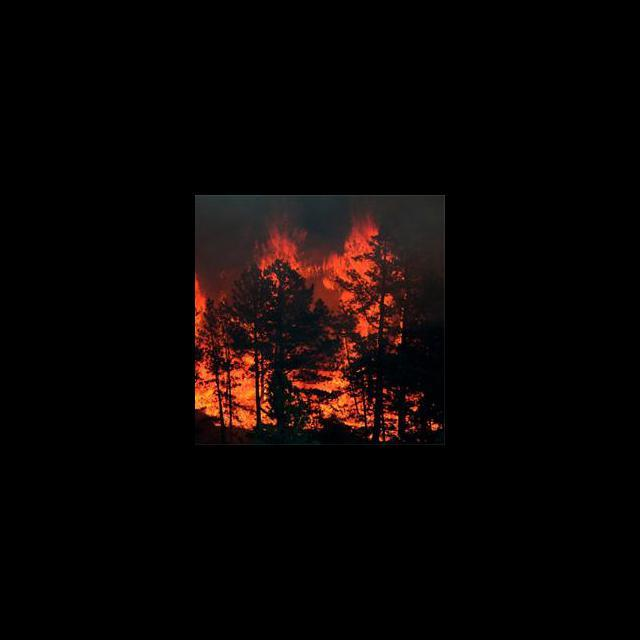Fire: (196, 214, 442, 436)
